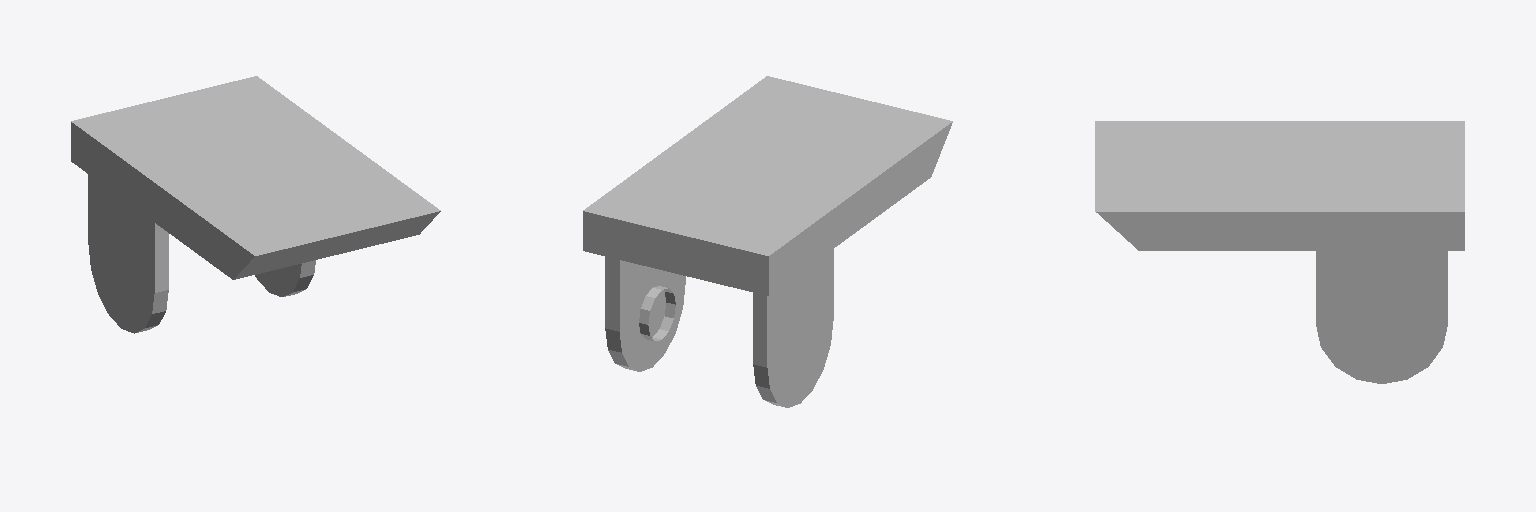
File: rightFoot.obj
3 views of the same model, side by side, from view 1: azimuth 30°, elevation 25°; view 2: azimuth 150°, elevation 25°; view 3: azimuth 270°, elevation 25° (orthographic).
Bounding box in the file's own units: 9.75 × 9 × 16.75.